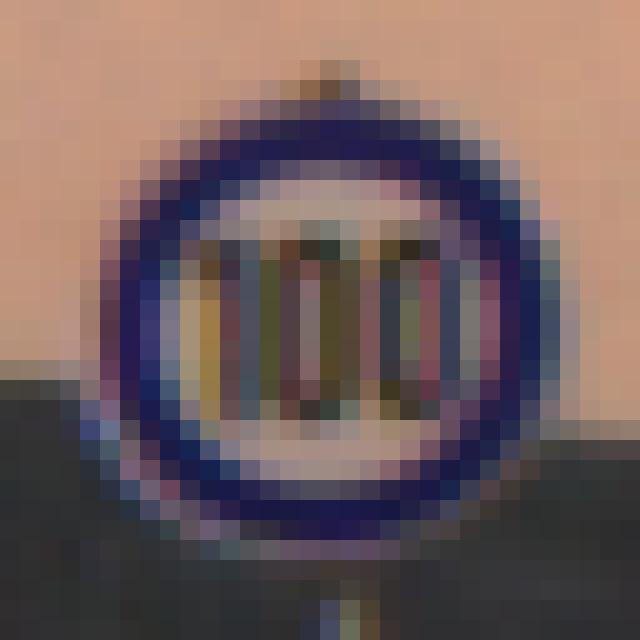SPEED LIMIT 100: (109, 107, 545, 547)
